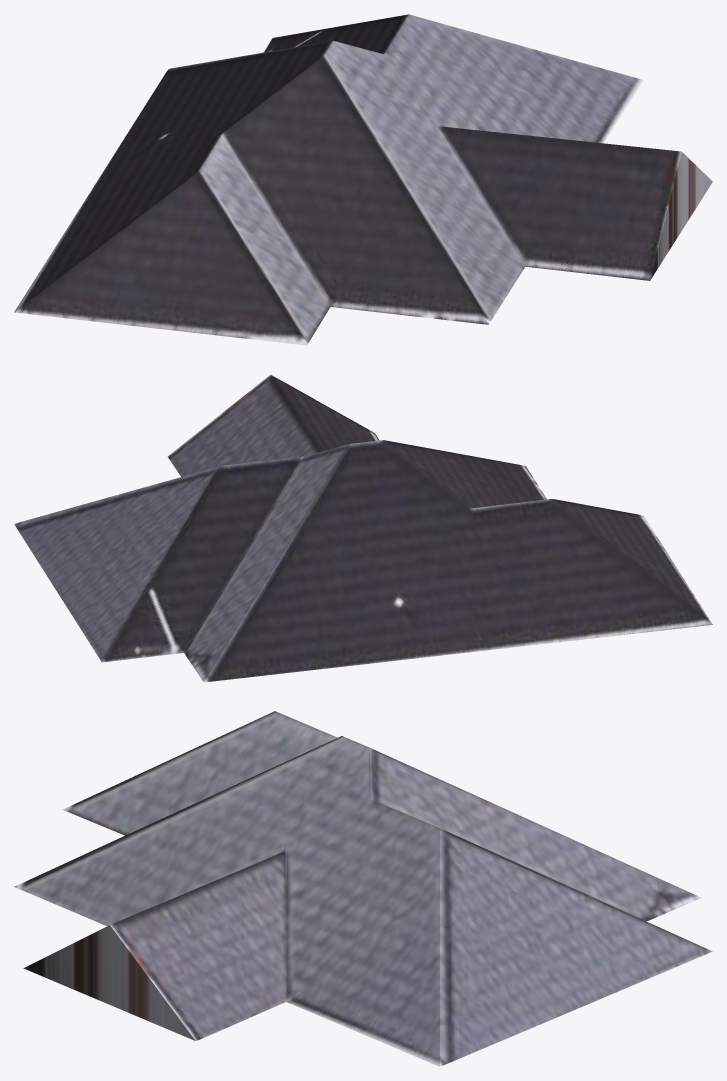
The model's file is BK39_500_012031_0068_roof.obj.
3 renders of one model, top to bottom at view 1: azimuth 30°, elevation 25°; view 2: azimuth 150°, elevation 25°; view 3: azimuth 270°, elevation 25°, orthographic. The views are drawn at different scales.
Parts seen in each view (by area): view 1: BK39_500_012031_0068_roof; view 2: BK39_500_012031_0068_roof; view 3: BK39_500_012031_0068_roof.
Boxes of the visible parts, left/top/right/bottom form: BK39_500_012031_0068_roof: left=14, top=14, right=712, bottom=345; BK39_500_012031_0068_roof: left=14, top=374, right=712, bottom=682; BK39_500_012031_0068_roof: left=14, top=711, right=712, bottom=1066.
Bounding box in the file's own units: 349 × 70 × 296.
Materials: 1 (1 with a texture image).
